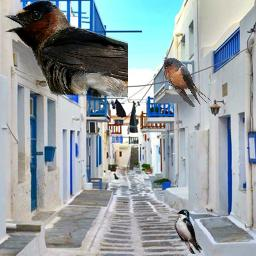Swallow: (3, 0, 128, 99), (162, 57, 212, 107), (174, 209, 202, 254)
